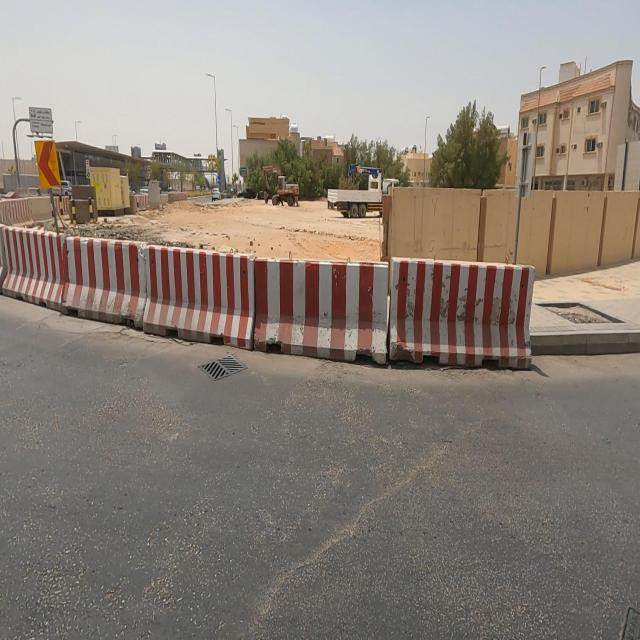Graffiti: (427, 193, 439, 216)
